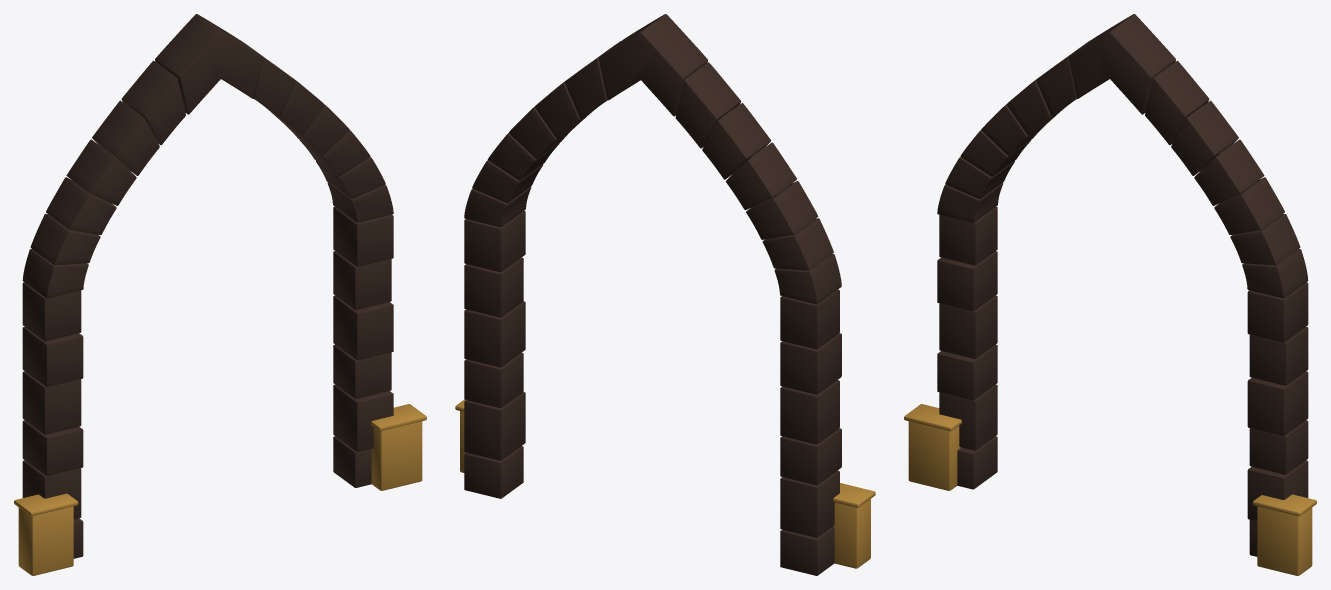
Rendered from door_arch.glb.
3 renders of one model, left to right at view 1: azimuth 30°, elevation 25°; view 2: azimuth 150°, elevation 25°; view 3: azimuth 330°, elevation 25°, orthographic.
Visible parts, largest first — view 1: door_arch; view 2: door_arch; view 3: door_arch.
Boxes of the visible parts, x1,y1,x2,y2 form: door_arch: (14,14,426,575); door_arch: (455,14,875,575); door_arch: (904,14,1316,575).
Size of the model in its own units: 4.66 by 5.54 by 0.68.
